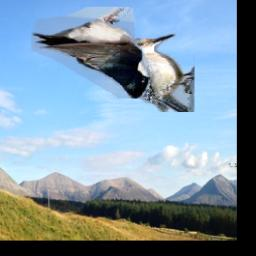Swallow: (31, 8, 150, 100)
Woodpecker: (116, 35, 196, 113)
